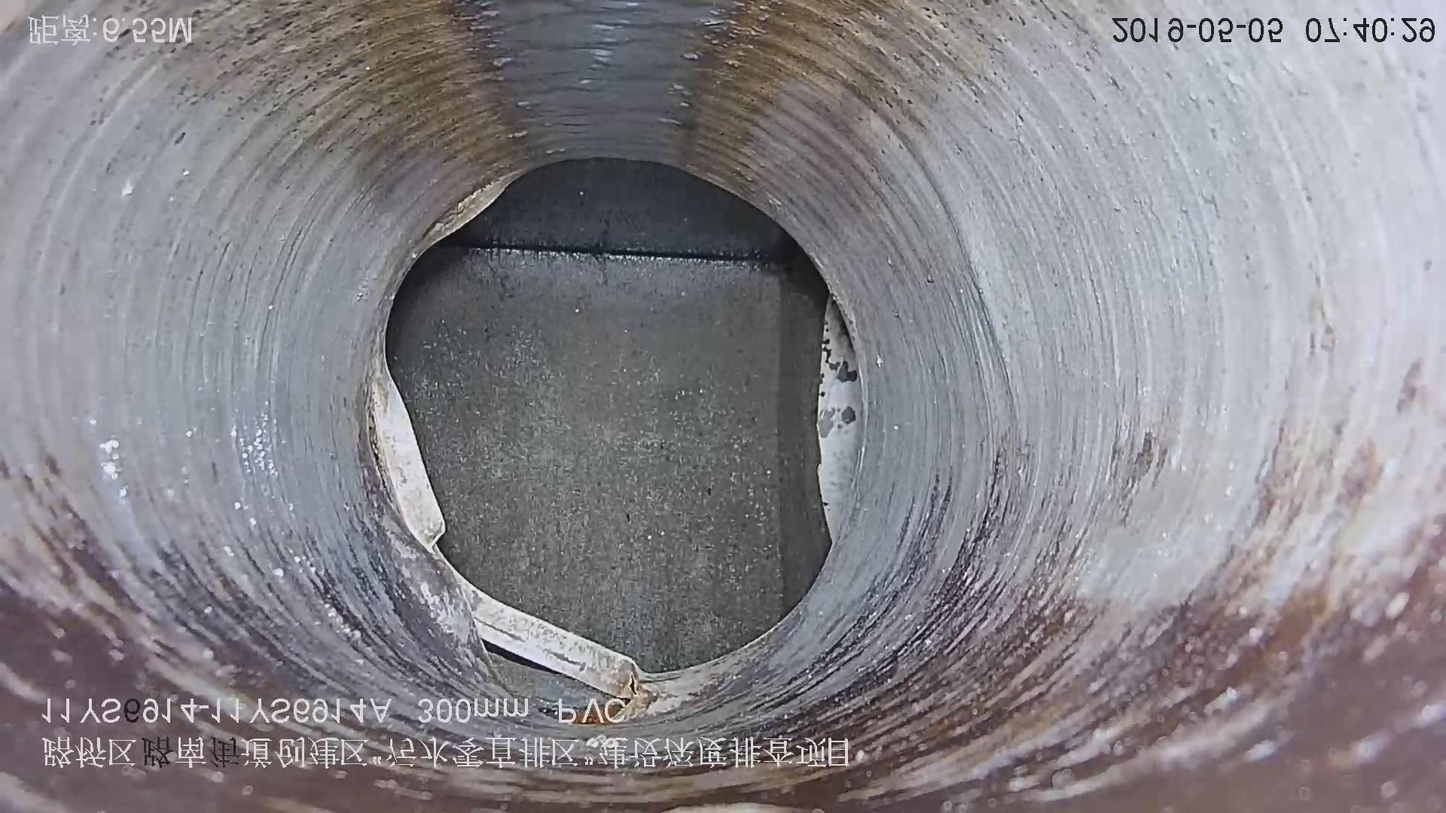JKCL: (351, 161, 884, 733)
